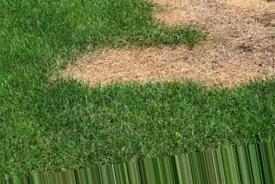patch: (83, 55, 249, 86), (163, 3, 247, 27), (205, 30, 266, 51)
